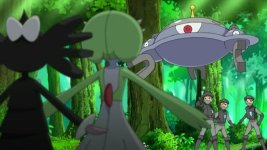gardevoir: (61, 11, 210, 150)
